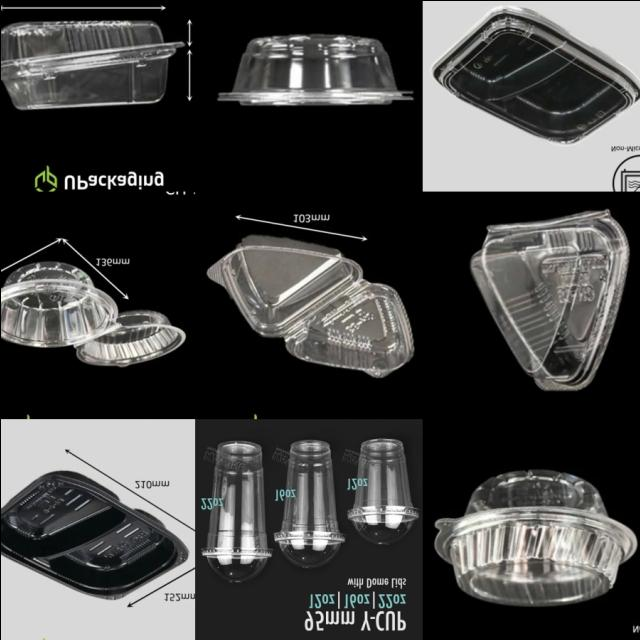plastik: (207, 234, 412, 376), (469, 210, 628, 390), (432, 7, 640, 143), (435, 469, 635, 606), (0, 471, 188, 598), (0, 261, 184, 366), (0, 20, 183, 108), (217, 34, 411, 104), (201, 440, 271, 582), (273, 439, 344, 567), (347, 438, 417, 543)
